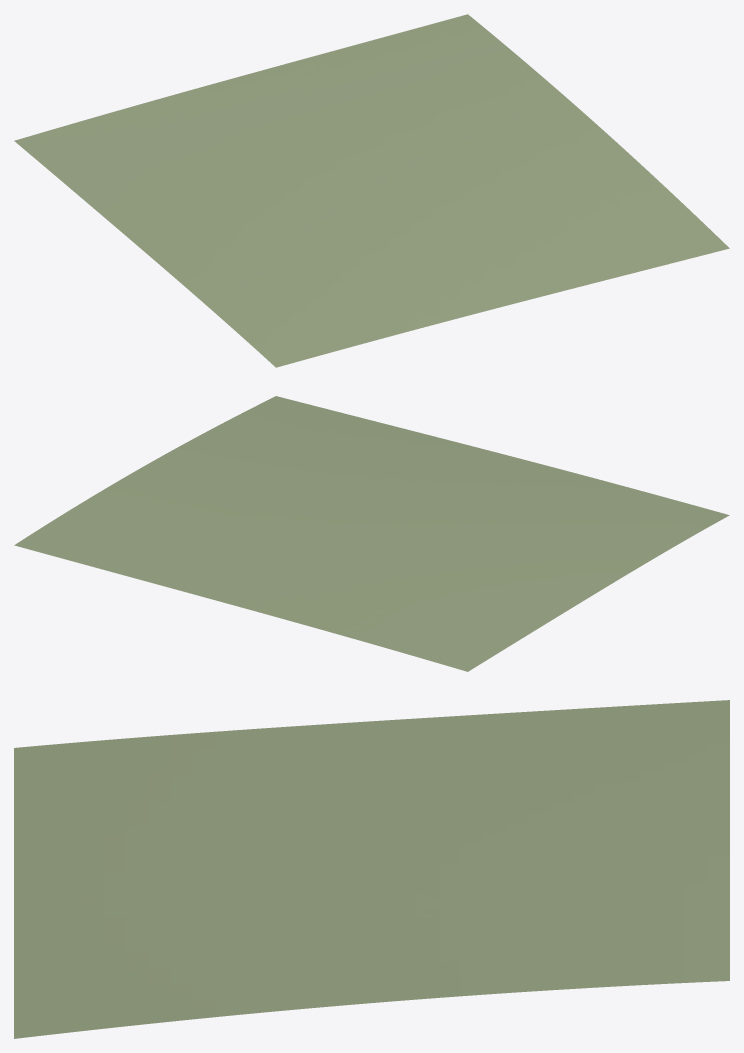
Rendered from desert-26-9.glb.
3 views of the same model, one above another, from view 1: azimuth 30°, elevation 25°; view 2: azimuth 150°, elevation 25°; view 3: azimuth 270°, elevation 25° (orthographic). The views are drawn at different scales.
Parts seen in each view (by area): view 1: desert-26-9; view 2: desert-26-9; view 3: desert-26-9.
Boxes of the visible parts, bbox=[...] form: desert-26-9: bbox=[14, 14, 729, 367]; desert-26-9: bbox=[14, 396, 729, 671]; desert-26-9: bbox=[14, 700, 729, 1038].
Bounding box in the file's own units: 512 × 54.91 × 512.
